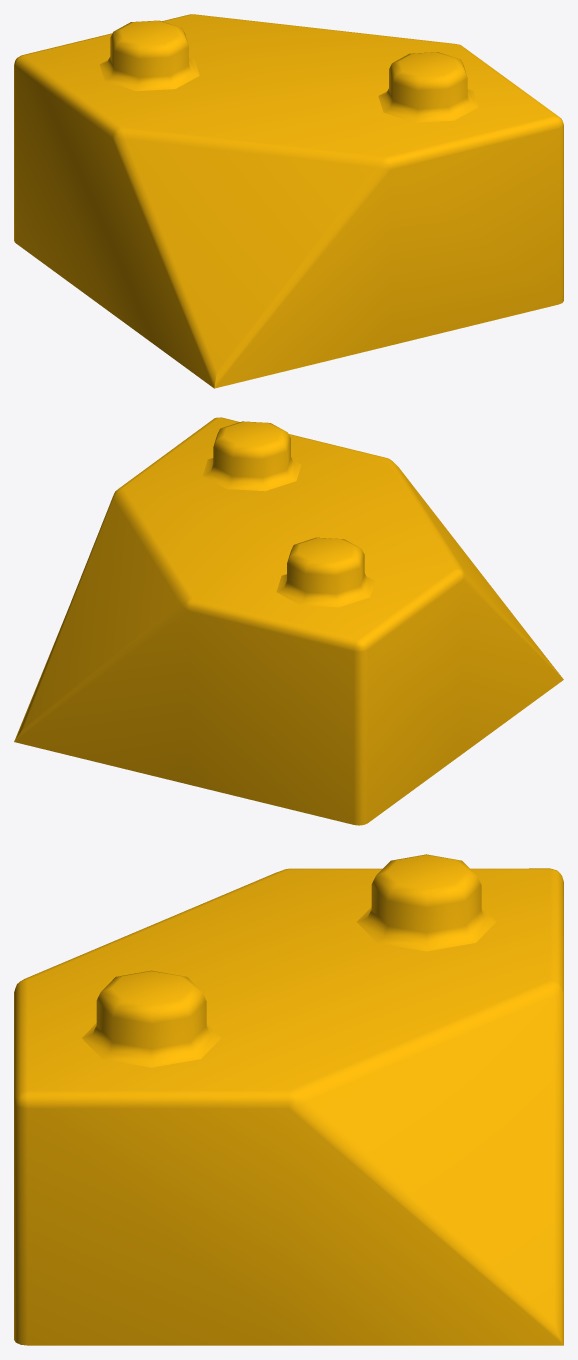
Rendered from Bevel_Two_Vertex_Opposite_Half.fbx.
3 renders of one model, top to bottom at view 1: azimuth 30°, elevation 25°; view 2: azimuth 150°, elevation 25°; view 3: azimuth 270°, elevation 25°, orthographic. The views are drawn at different scales.
Visible parts, largest first — view 1: Bevel_Two_Vertex_Opposite_Half, Knobs.012; view 2: Bevel_Two_Vertex_Opposite_Half, Knobs.012; view 3: Bevel_Two_Vertex_Opposite_Half, Knobs.012.
Boxes of the visible parts, <box> form: Bevel_Two_Vertex_Opposite_Half: <box>14,14,563,388</box>; Knobs.012: <box>99,20,478,122</box>; Bevel_Two_Vertex_Opposite_Half: <box>14,417,563,825</box>; Knobs.012: <box>203,421,374,607</box>; Bevel_Two_Vertex_Opposite_Half: <box>14,868,563,1345</box>; Knobs.012: <box>82,854,495,1067</box>.
Bounding box in the file's own units: 1 × 0.6 × 1.
